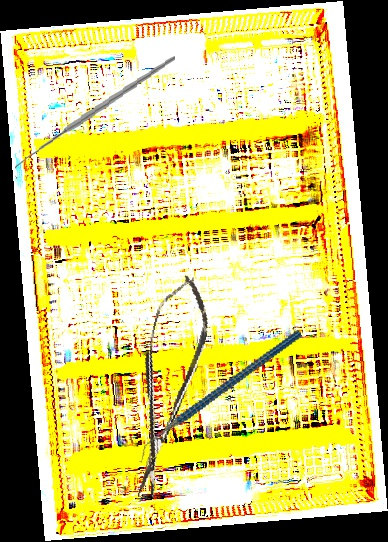Chopper: (116, 329, 324, 464)
Hook Surgical: (7, 53, 183, 180)
Micro Scissor: (112, 270, 220, 504)
